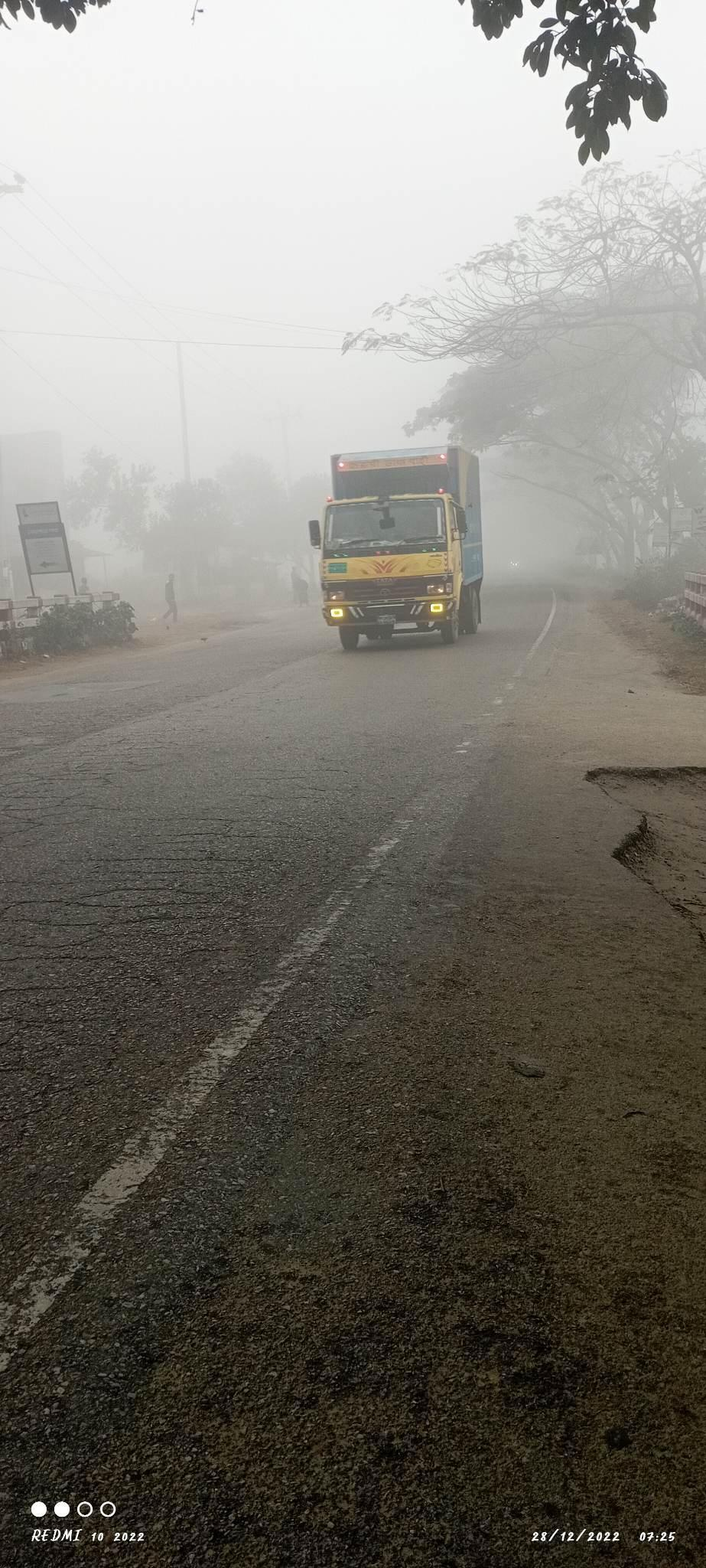Truck: (278, 417, 522, 657)
